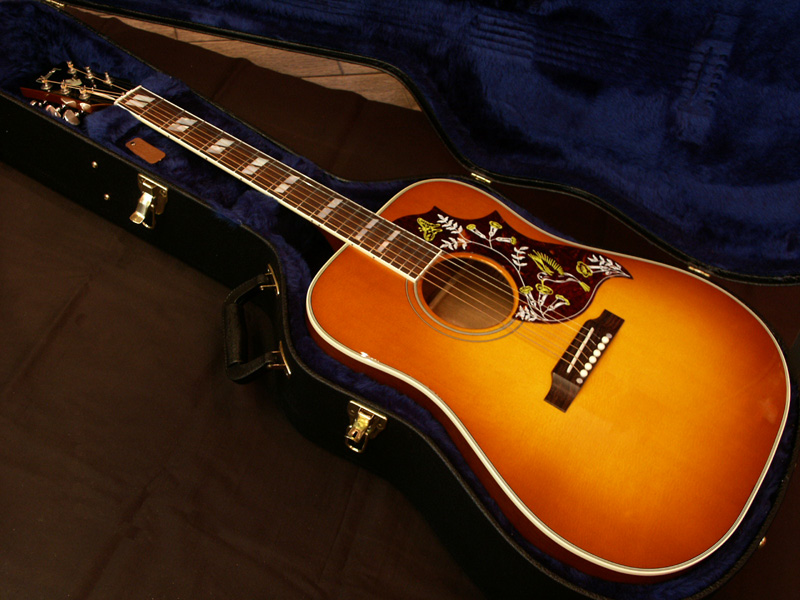guitar: (38, 56, 792, 583)
